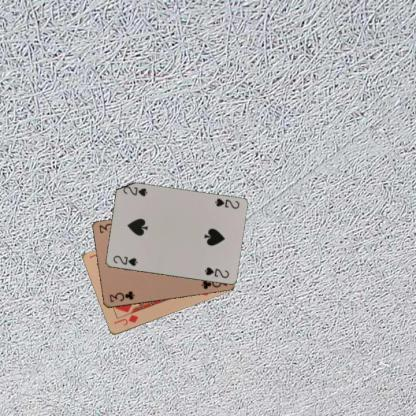2s: (110, 253, 138, 268), (212, 196, 240, 210)
3c: (107, 288, 136, 304)
Jd: (111, 313, 139, 327)
